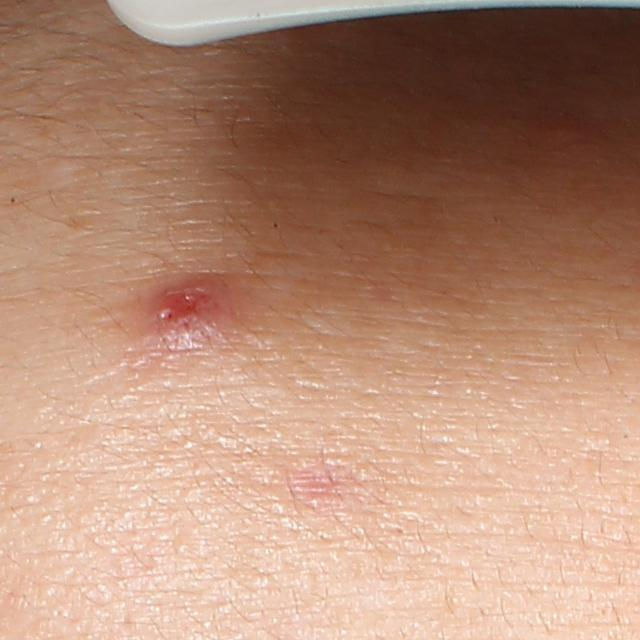papule: (134, 276, 239, 350)
